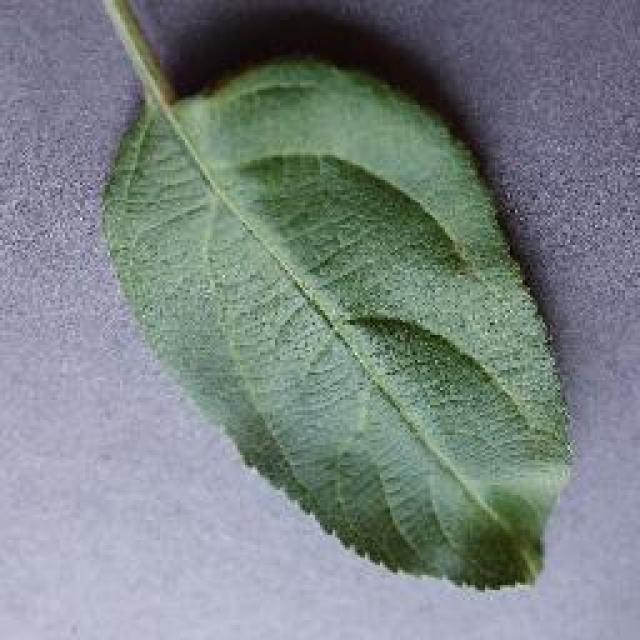apple healthy: (92, 0, 577, 592)
